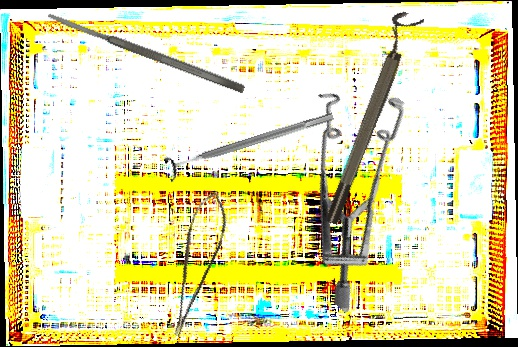Fixation Ring: (312, 8, 425, 227), (162, 102, 338, 184)
Micro Scissor: (147, 188, 240, 339)
Spatula Surgical: (45, 8, 247, 96)
Speculum: (222, 57, 474, 315)
